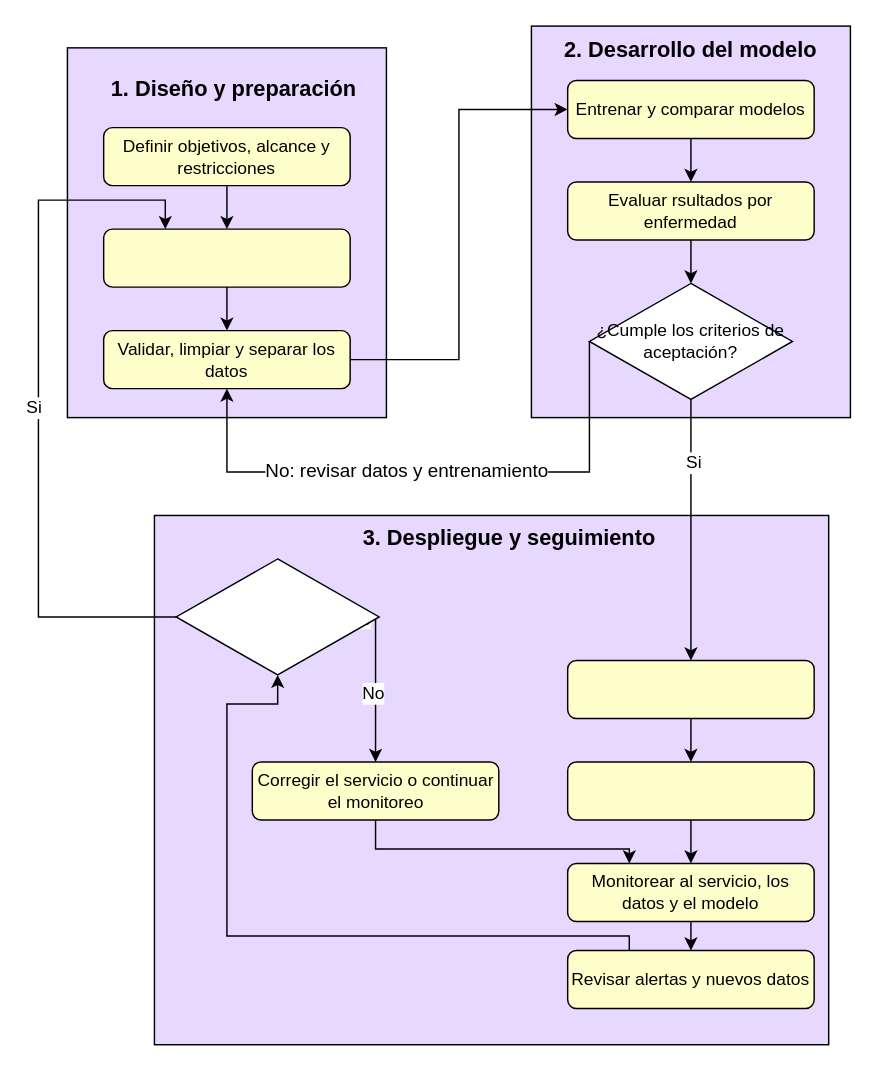
Some shapes in this 876 by 1070 pixel diagram are drawn without their labels. The shapes that lost their labels are listed below. From the top down, each one's centre as x and y in pixels, then its label:
At point (226, 257): "Recopilar datos de síntomas y diagnósticos".
At point (277, 616): "¿Se justifica reentrenar el modelo?".
At point (690, 688): "Aprobar y registrar la versión".
At point (690, 790): "Empaquetar y desplegar con Docker".
